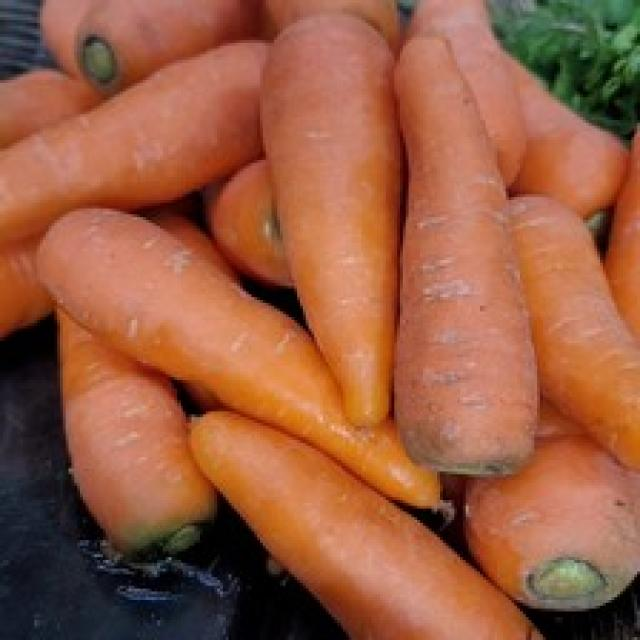Fresh_Carrot: (17, 224, 435, 492), (0, 34, 323, 209), (256, 20, 404, 396)
